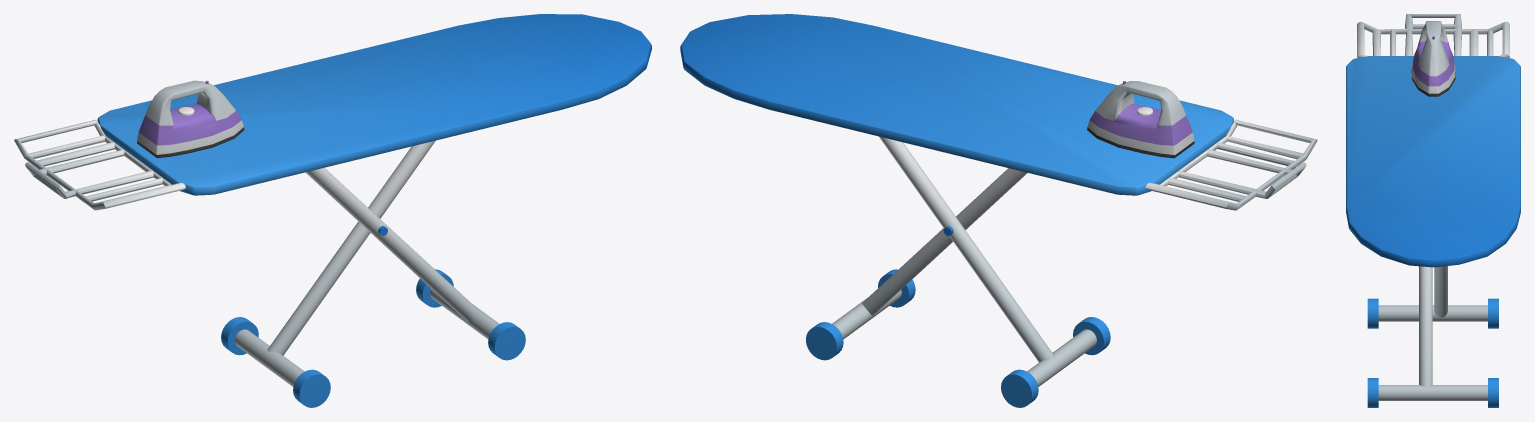
The model's file is Ironing_Table.fbx.
3 views of the same model, side by side, from view 1: azimuth 30°, elevation 25°; view 2: azimuth 150°, elevation 25°; view 3: azimuth 270°, elevation 25° (orthographic). The views are drawn at different scales.
Parts seen in each view (by area): view 1: Ironing_table, iron; view 2: Ironing_table, iron; view 3: Ironing_table, iron.
Part boxes in pixels (x1=…): Ironing_table: x1=14, y1=14, x2=651, y2=407; iron: x1=137, y1=80, x2=244, y2=157; Ironing_table: x1=680, y1=14, x2=1317, y2=407; iron: x1=1087, y1=81, x2=1194, y2=158; Ironing_table: x1=1346, y1=14, x2=1520, y2=407; iron: x1=1411, y1=21, x2=1455, y2=96.
Size of the model in its own units: 3.02 by 1.51 by 0.9102.
Materials: 1 (1 with a texture image).
